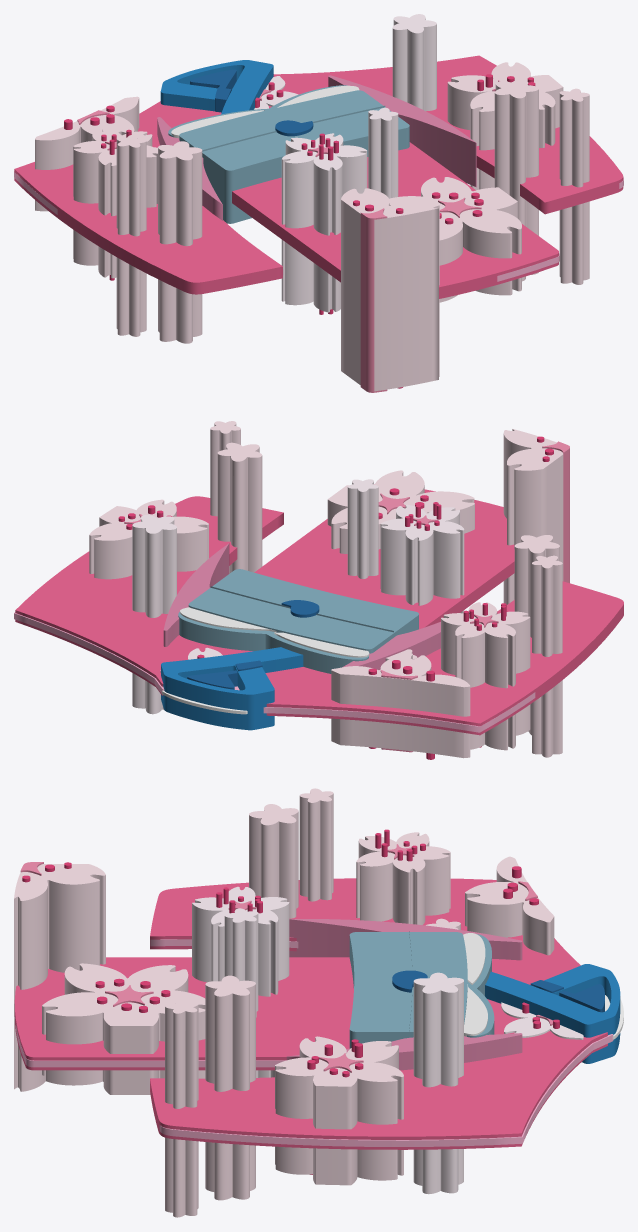
File: emoji_u1f458.glb
3 renders of one model, top to bottom at view 1: azimuth 30°, elevation 25°; view 2: azimuth 150°, elevation 25°; view 3: azimuth 270°, elevation 25°, orthographic. The views are drawn at different scales.
Parts seen in each view (by area): view 1: emoji_u1f458; view 2: emoji_u1f458; view 3: emoji_u1f458.
Boxes of the visible parts, box(x1,y1,x2,y2) form: emoji_u1f458: box(14, 14, 623, 392); emoji_u1f458: box(14, 421, 623, 759); emoji_u1f458: box(14, 788, 623, 1217).
Bounding box in the file's own units: 0.0338 × 0.0128 × 0.0336.
